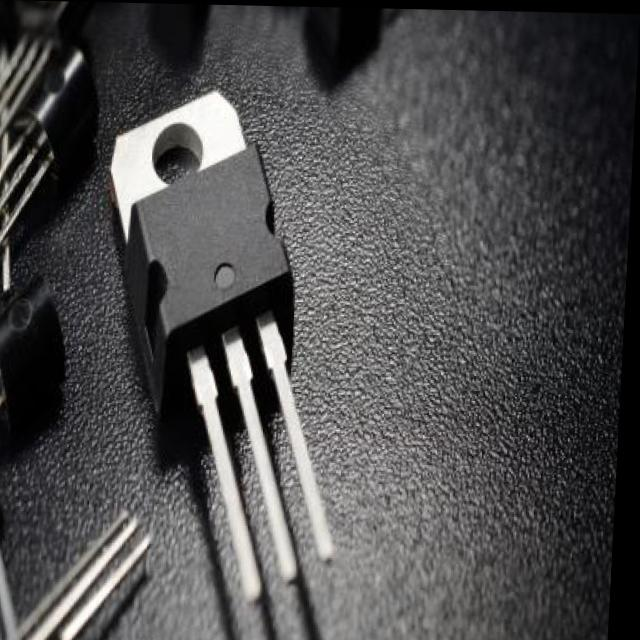Transistor: (114, 89, 333, 595)
